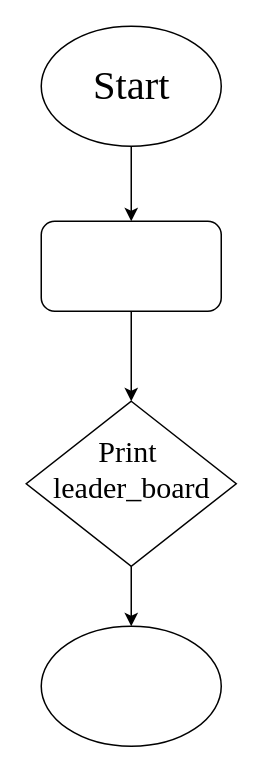
This 263x773 diagram has some shape labels left out. The shapes that lost their labels are listed below. From the top down, each one's box as (x1, y1, x2, y2) in pixels, then its label:
(40, 220, 221, 311): int i
(40, 625, 221, 746): End
